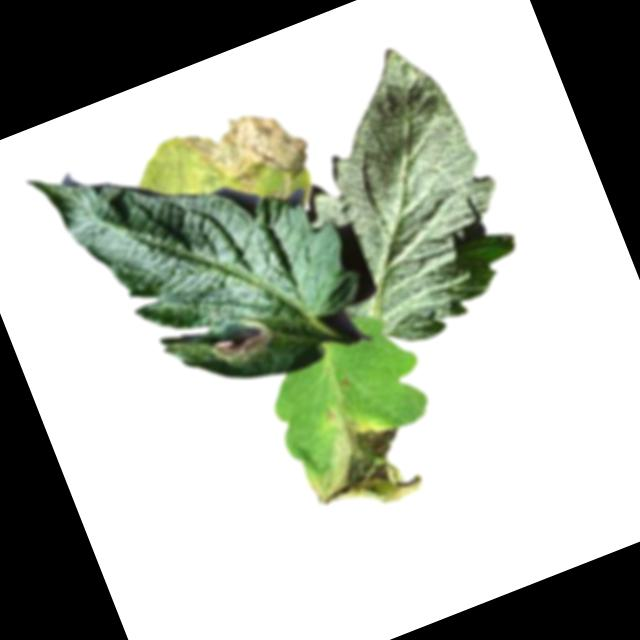Late_blight: (290, 400, 426, 530), (178, 91, 316, 209), (211, 320, 274, 365)
healthy: (263, 29, 539, 363)
